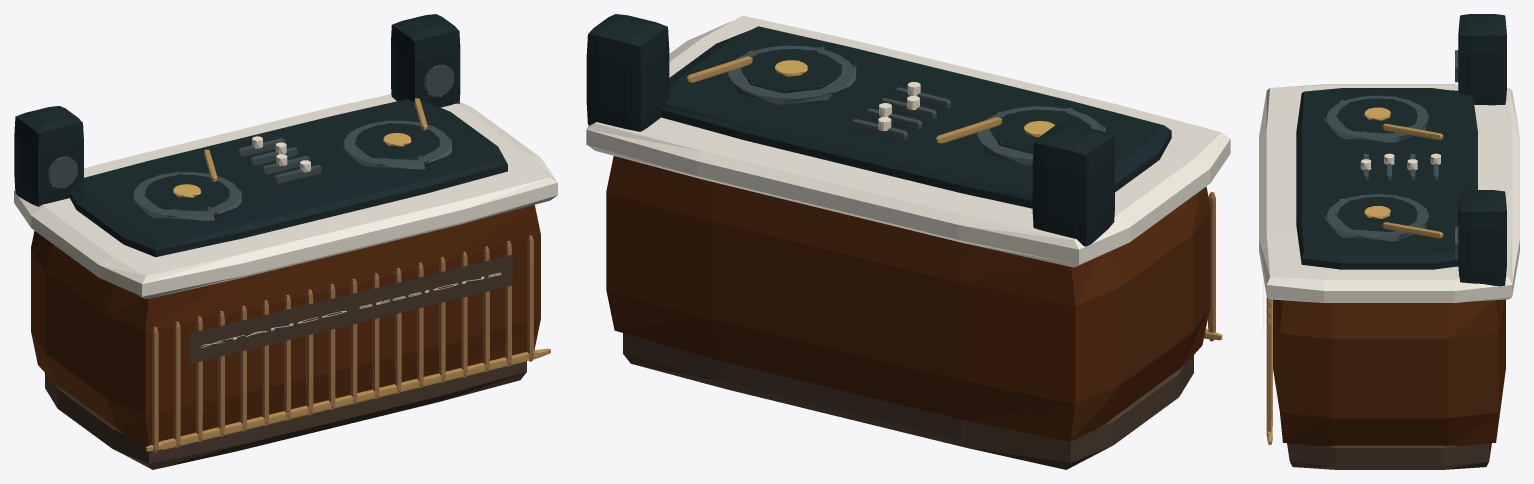
Rendered from better.glb.
3 views of the same model, side by side, from view 1: azimuth 30°, elevation 25°; view 2: azimuth 150°, elevation 25°; view 3: azimuth 270°, elevation 25° (orthographic). The views are drawn at different scales.
Parts seen in each view (by area): view 1: Native component 1, Native component 29, Native component 2, Native component 11, Native component 7, Native component 0, Native component 32, Native component 10, Native component 4, Sign XTANCO SESSIONS; view 2: Native component 1, Native component 29, Native component 2, Native component 0, Native component 32, Native component 10, Native component 11, Native component 4, Native component 40; view 3: Native component 29, Native component 1, Native component 2, Native component 0, Native component 32, Native component 10, Native component 11, Native component 4, Native component 40.
Boxes of the visible parts, x1=… form: Native component 1: x1=31, y1=205, x2=540, y2=445; Native component 29: x1=14, y1=14, x2=507, y2=257; Native component 2: x1=14, y1=94, x2=557, y2=299; Native component 11: x1=152, y1=235, x2=533, y2=453; Native component 7: x1=189, y1=255, x2=512, y2=364; Native component 0: x1=45, y1=361, x2=526, y2=469; Native component 32: x1=47, y1=64, x2=454, y2=220; Native component 10: x1=145, y1=98, x2=550, y2=451; Native component 4: x1=173, y1=133, x2=411, y2=197; Sign XTANCO SESSIONS: x1=201, y1=272, x2=501, y2=347; Native component 1: x1=606, y1=156, x2=1210, y2=441; Native component 29: x1=586, y1=14, x2=1171, y2=246; Native component 2: x1=586, y1=15, x2=1230, y2=267; Native component 0: x1=623, y1=333, x2=1193, y2=469; Native component 32: x1=727, y1=45, x2=1105, y2=165; Native component 10: x1=686, y1=56, x2=1222, y2=340; Native component 11: x1=1208, y1=191, x2=1215, y2=341; Native component 4: x1=774, y1=60, x2=1054, y2=137; Native component 40: x1=878, y1=82, x2=920, y2=130; Native component 29: x1=1296, y1=14, x2=1506, y2=286; Native component 1: x1=1273, y1=299, x2=1505, y2=446; Native component 2: x1=1259, y1=84, x2=1519, y2=302; Native component 0: x1=1287, y1=443, x2=1491, y2=469; Native component 32: x1=1323, y1=50, x2=1458, y2=258; Native component 10: x1=1267, y1=123, x2=1443, y2=444; Native component 11: x1=1266, y1=297, x2=1271, y2=436; Native component 4: x1=1364, y1=107, x2=1390, y2=218; Native component 40: x1=1360, y1=153, x2=1440, y2=170.
Bounding box in the file's own units: 2.1 × 1.29 × 1.12.
